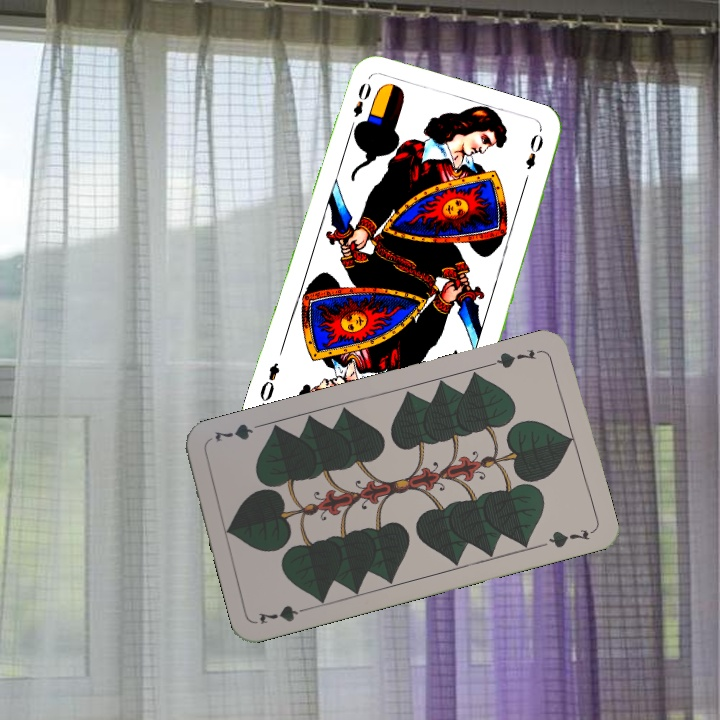EO: (345, 78, 374, 134)
G7: (487, 344, 545, 371), (255, 601, 314, 627)
